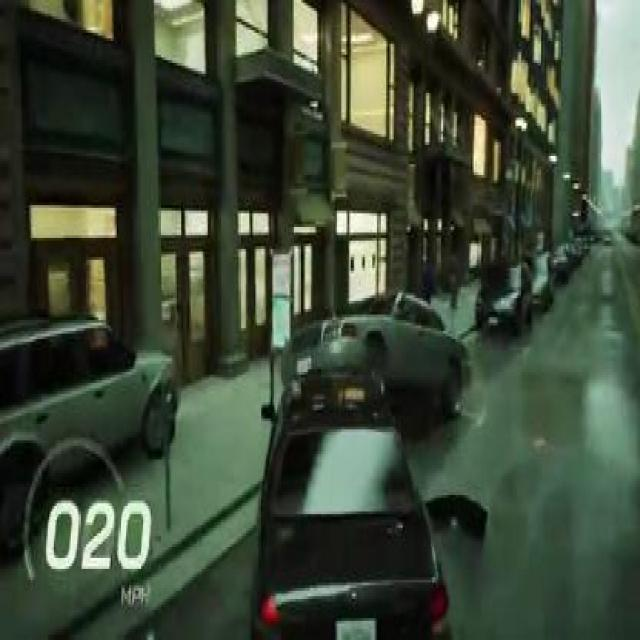accident: (250, 275, 479, 639)
